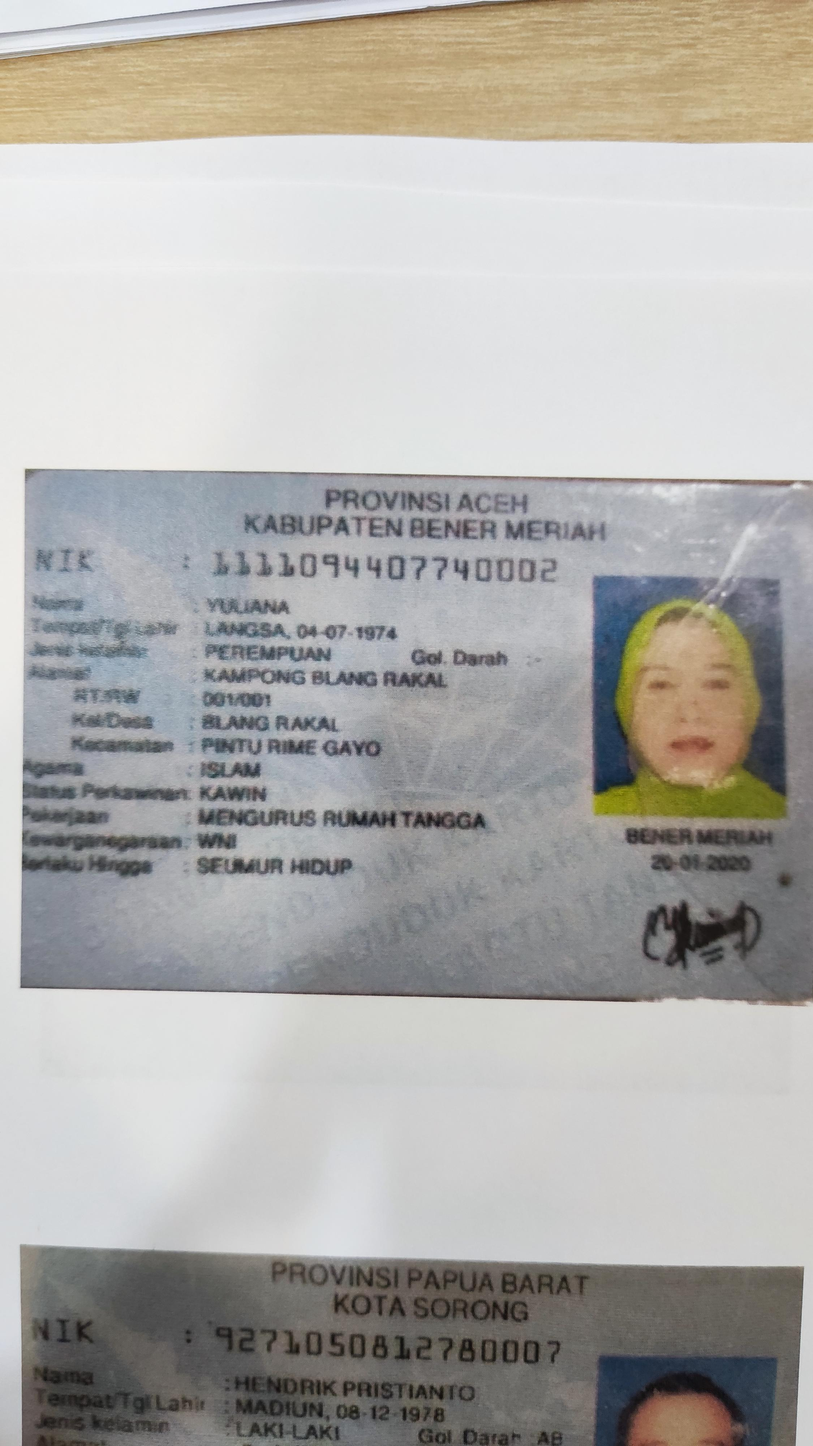ID-card: (25, 472, 801, 1000)
